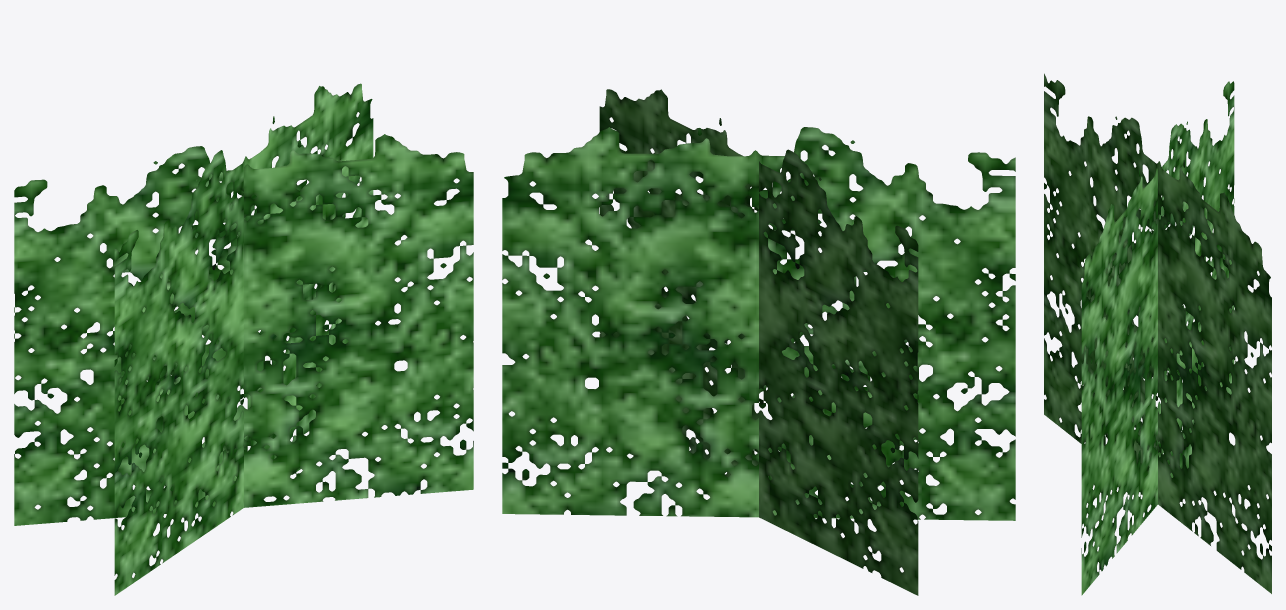
The model's file is bush_overgrown_spring.fbx.
3 views of the same model, side by side, from view 1: azimuth 30°, elevation 25°; view 2: azimuth 150°, elevation 25°; view 3: azimuth 270°, elevation 25° (orthographic). The views are drawn at different scales.
Visible parts, largest first — view 1: bush_overgrown_spring; view 2: bush_overgrown_spring; view 3: bush_overgrown_spring.
Boxes of the visible parts, x1=… form: bush_overgrown_spring: x1=14, y1=83, x2=473, y2=595; bush_overgrown_spring: x1=502, y1=89, x2=1015, y2=595; bush_overgrown_spring: x1=1044, y1=73, x2=1271, y2=595.
Size of the model in its own units: 105 by 106 by 54.93.
Materials: 1 (1 with a texture image).
